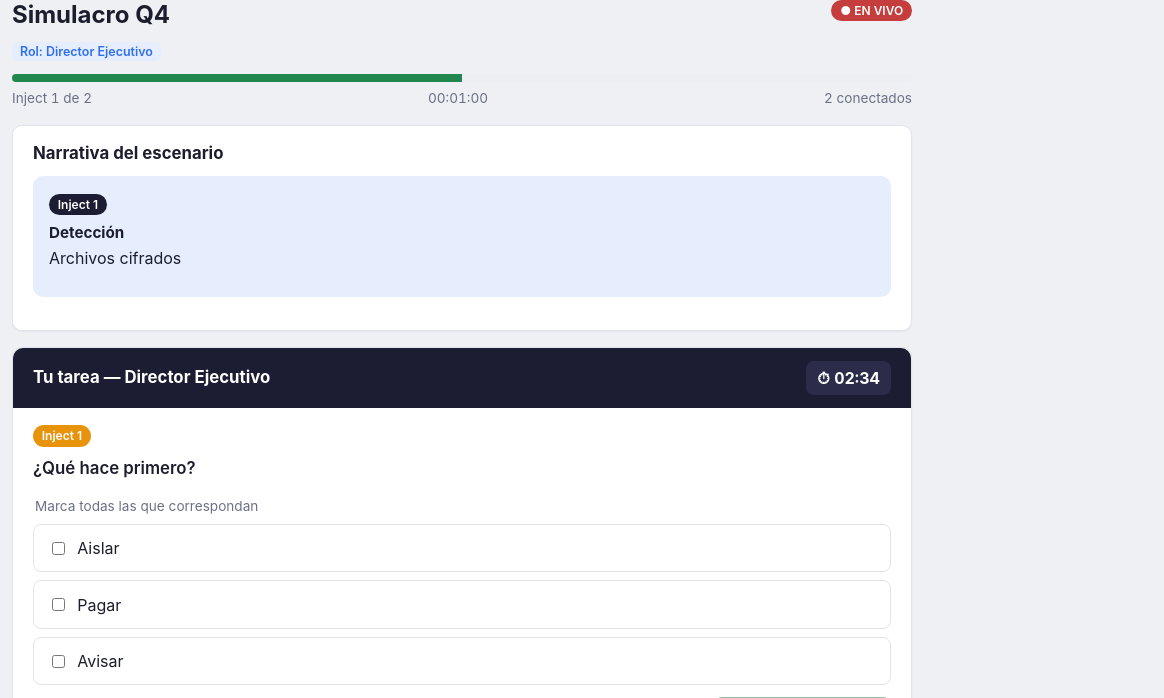
Tareas del rol en la sala › selección múltiple: envía los índices elegidos
The image size is (1164, 698).
Expected: the text "Rol: Director Ejecutivo" is shown, x1=12 y1=42 x2=161 y2=61
Expected: the text "¿Qué hace primero?" is shown, x1=33 y1=458 x2=196 y2=478
Step 1. Click the checkbox labelled "Aislar" → (58, 548), box x1=52 y1=542 x2=65 y2=555
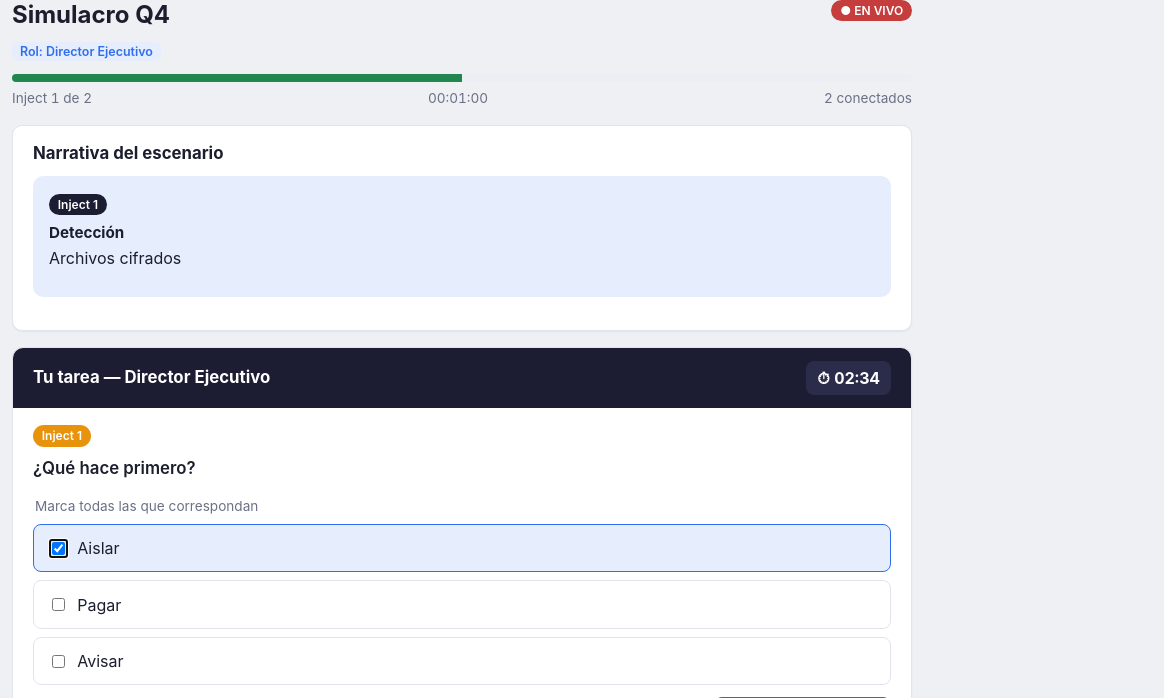
Step 2. Click the checkbox labelled "Avisar" → (58, 661), box x1=52 y1=654 x2=65 y2=668
(page scrolled)
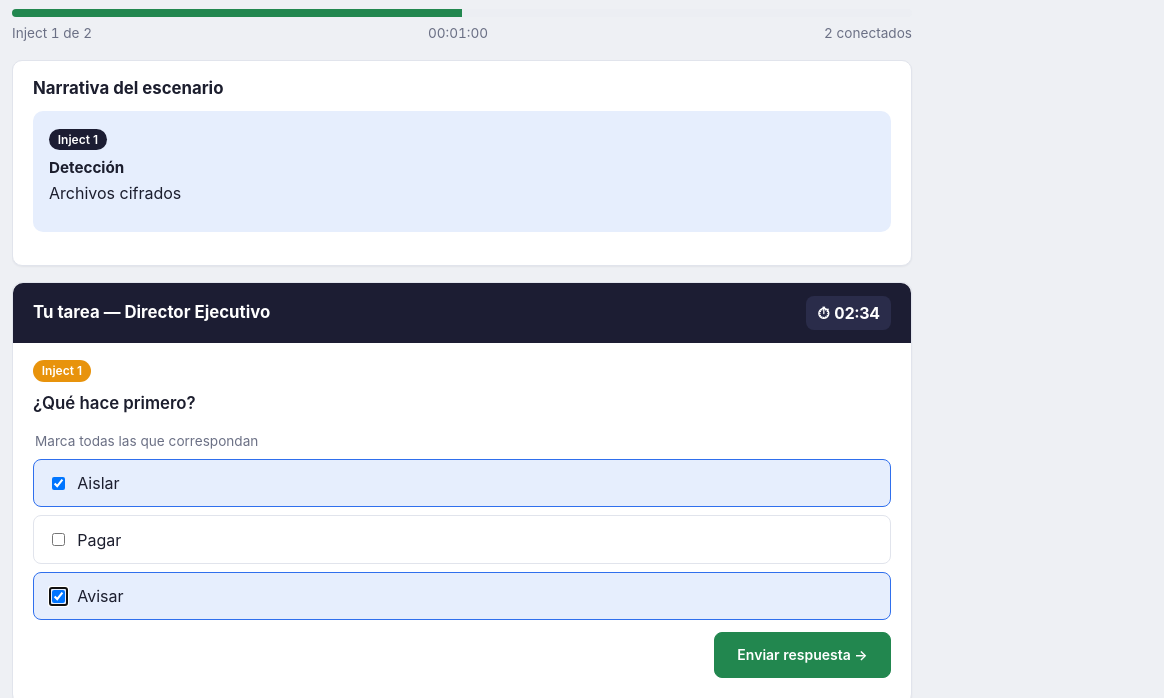
Step 3. Click the button "Enviar respuesta →" → (802, 655), box x1=714 y1=632 x2=891 y2=678
(page scrolled)
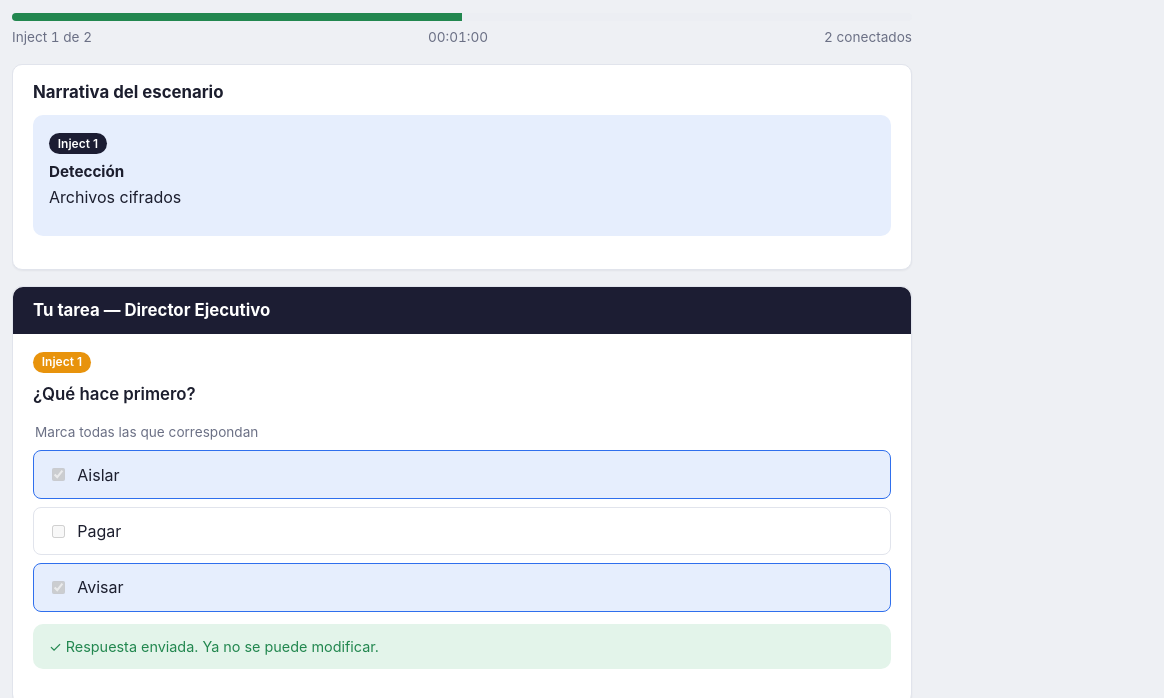
Expected: the checkbox labelled "Pagar" is not checked, x1=52 y1=524 x2=65 y2=538
Expected: the checkbox labelled "Aislar" is checked, x1=52 y1=468 x2=65 y2=481
Expected: the text "✓ Respuesta enviada. Ya no se puede modificar." is shown, x1=33 y1=624 x2=891 y2=669
